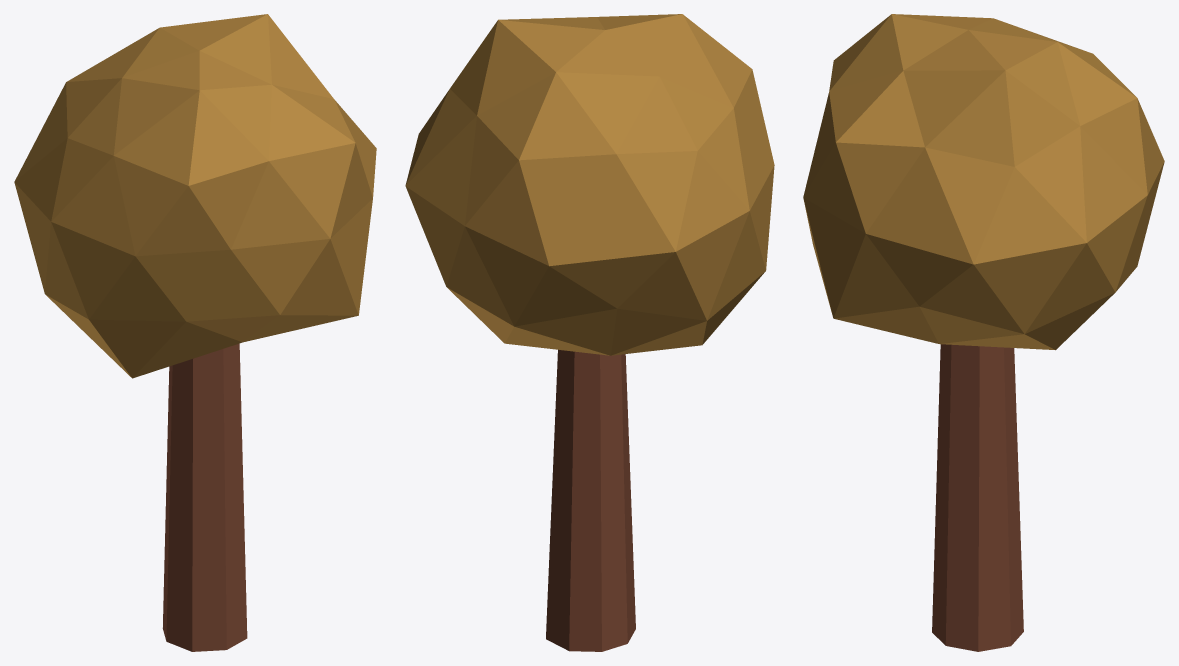
File: Tree_04_autumn_vc.fbx
3 renders of one model, left to right at view 1: azimuth 30°, elevation 25°; view 2: azimuth 150°, elevation 25°; view 3: azimuth 270°, elevation 25°, orthographic. The views are drawn at different scales.
Parts seen in each view (by area): view 1: Tree_04_autumn_vc; view 2: Tree_04_autumn_vc; view 3: Tree_04_autumn_vc.
Boxes of the visible parts, x1,y1,x2,y2 form: Tree_04_autumn_vc: (14, 14, 376, 651); Tree_04_autumn_vc: (405, 14, 774, 651); Tree_04_autumn_vc: (803, 14, 1164, 651).
Bounding box in the file's own units: 2.88 × 5.01 × 2.73.
